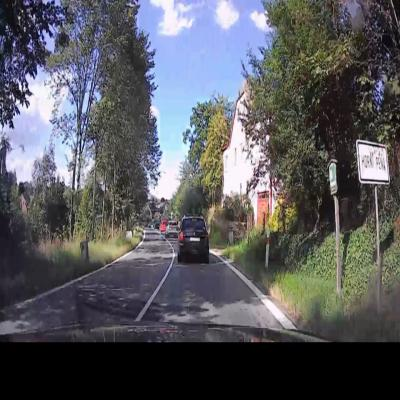clear-road: (0, 230, 172, 336), (141, 252, 282, 330)
